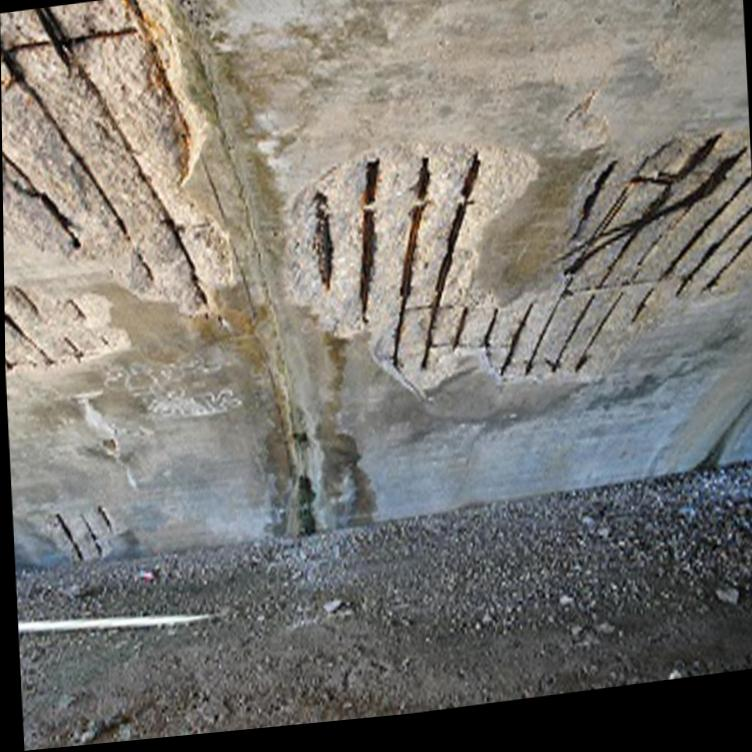crack: (188, 47, 306, 484), (197, 156, 292, 487)
damage: (285, 142, 752, 413), (0, 0, 235, 320), (3, 282, 134, 379), (22, 501, 128, 565)
